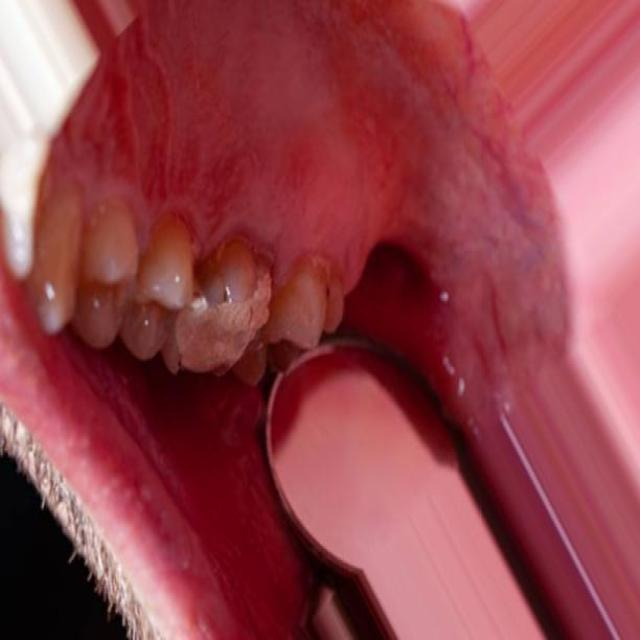caries: (165, 256, 277, 381)
